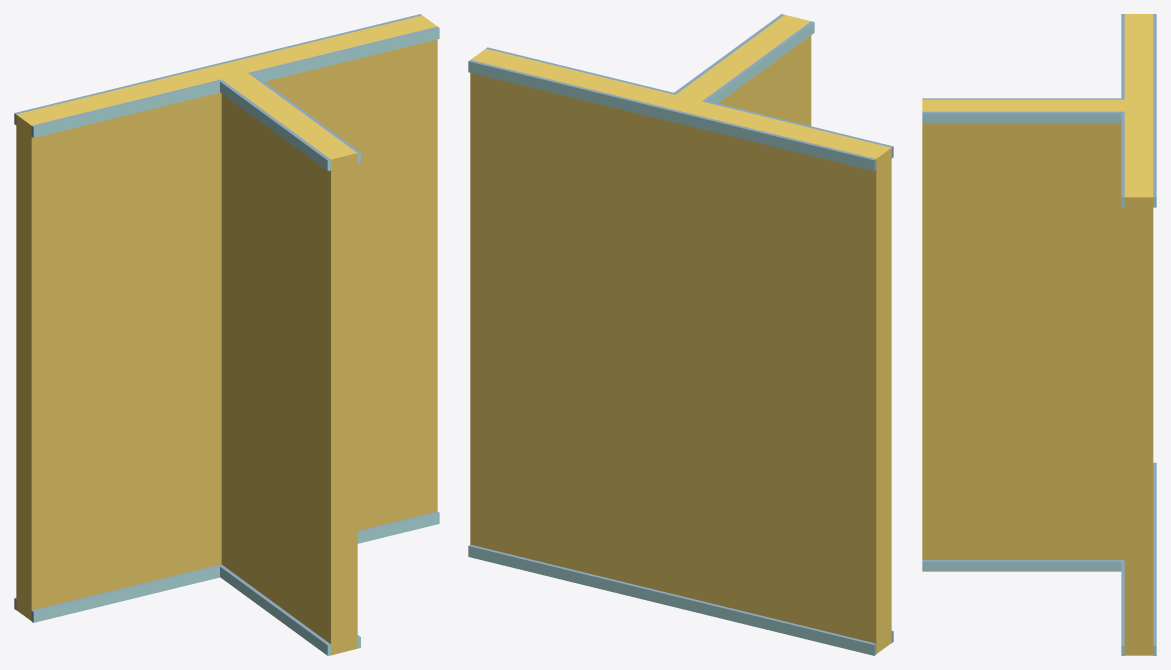
File: Wall T.fbx
3 views of the same model, side by side, from view 1: azimuth 30°, elevation 25°; view 2: azimuth 150°, elevation 25°; view 3: azimuth 270°, elevation 25° (orthographic). The views are drawn at different scales.
Visible parts, largest first — view 1: Wall T; view 2: Wall T; view 3: Wall T.
Part boxes in pixels (left/top/right/bottom): Wall T: left=14, top=14, right=439, bottom=655; Wall T: left=468, top=14, right=893, bottom=655; Wall T: left=922, top=14, right=1156, bottom=655.
Bounding box in the file's own units: 600 × 700 × 325.
